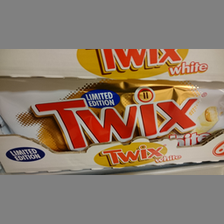chocolate: (1, 77, 224, 154)
